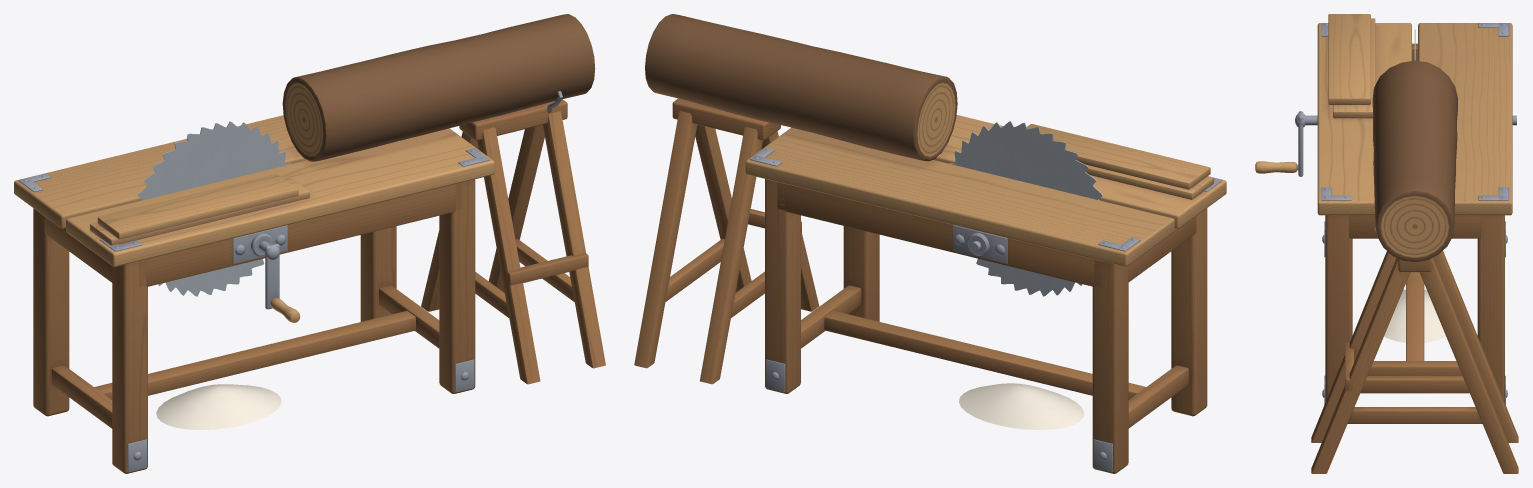
The model's file is sawmill-station.glb.
The picture shows the model from 3 angles, left to right: view 1: azimuth 30°, elevation 25°; view 2: azimuth 150°, elevation 25°; view 3: azimuth 270°, elevation 25°; orthographic projection. The views are drawn at different scales.
Visible parts, largest first — view 1: sawmill-station_body, sawmill-station_blade; view 2: sawmill-station_body, sawmill-station_blade; view 3: sawmill-station_body, sawmill-station_blade.
Boxes of the visible parts, <box> form: sawmill-station_body: <box>14,14,605,473</box>; sawmill-station_blade: <box>137,121,300,322</box>; sawmill-station_body: <box>634,14,1226,473</box>; sawmill-station_blade: <box>949,121,1102,296</box>; sawmill-station_body: <box>1311,14,1518,473</box>; sawmill-station_blade: <box>1255,29,1516,176</box>.
Bounding box in the file's own units: 1.88 × 1.08 × 0.8656.
Materials: 2 (2 with a texture image).
